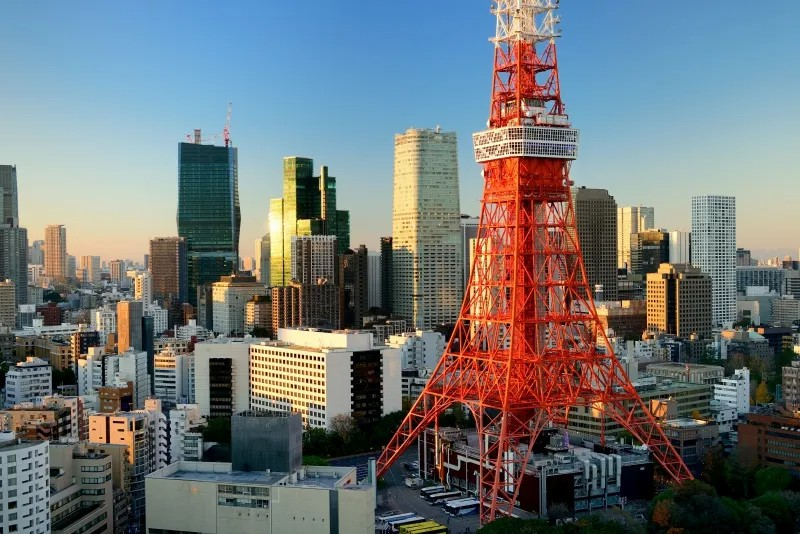Tokyo: (376, 1, 696, 524)
